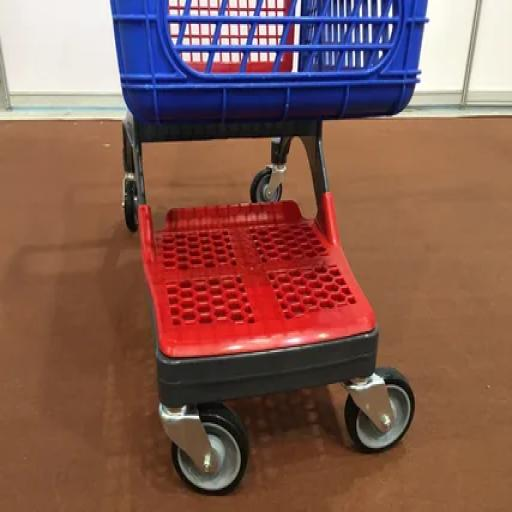shopping_cart: (109, 0, 428, 497)
